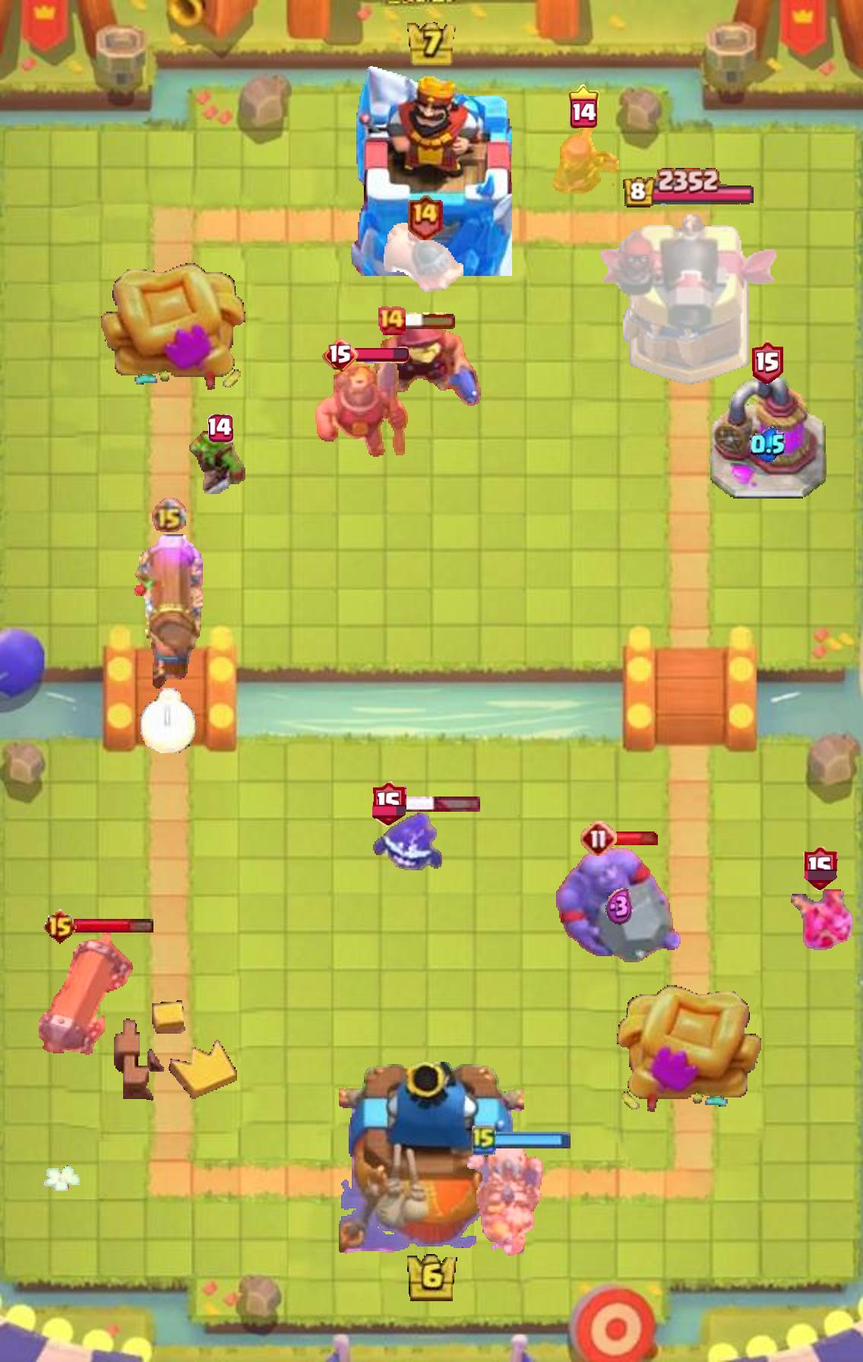elixir: (749, 426, 785, 462), (606, 888, 634, 927)
